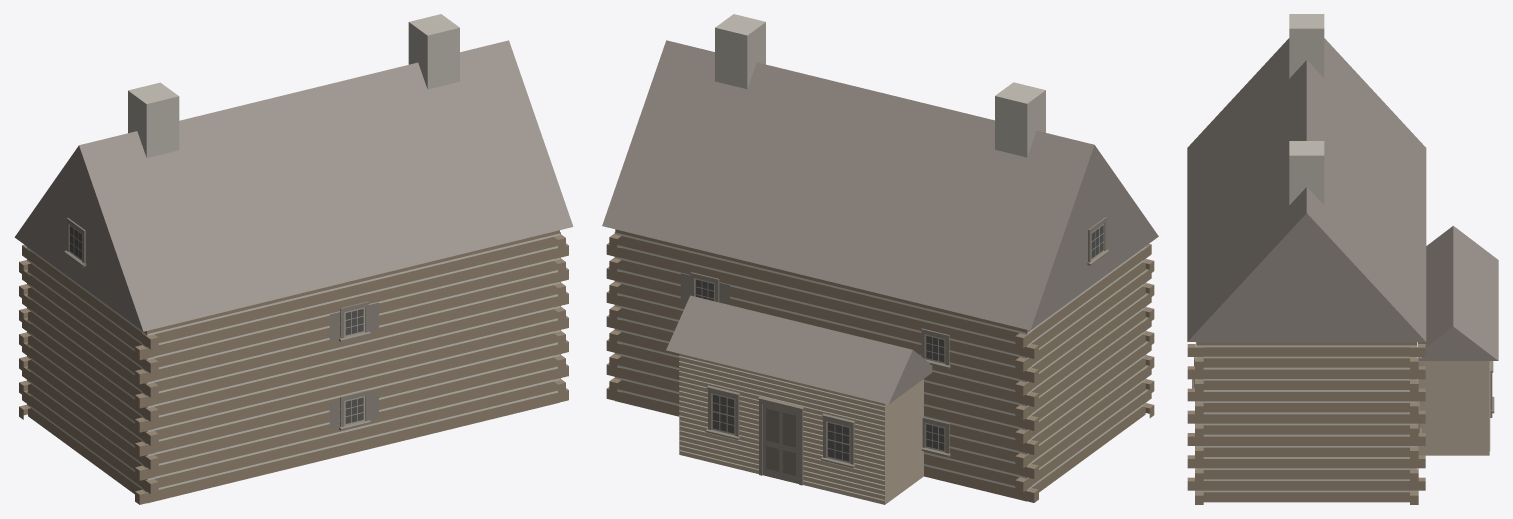
Rendered from jb_beaubien_homestead__log_1822.glb.
3 renders of one model, left to right at view 1: azimuth 30°, elevation 25°; view 2: azimuth 150°, elevation 25°; view 3: azimuth 270°, elevation 25°, orthographic. The views are drawn at different scales.
Visible parts, largest first — view 1: jb_beaubien_homestead__log_1822; view 2: jb_beaubien_homestead__log_1822; view 3: jb_beaubien_homestead__log_1822.
Boxes of the visible parts, x1,y1,x2,y2 form: jb_beaubien_homestead__log_1822: (14,14,573,504); jb_beaubien_homestead__log_1822: (602,14,1158,504); jb_beaubien_homestead__log_1822: (1187,14,1498,504).
Bounding box in the file's own units: 12.85 × 9.88 × 8.6.
